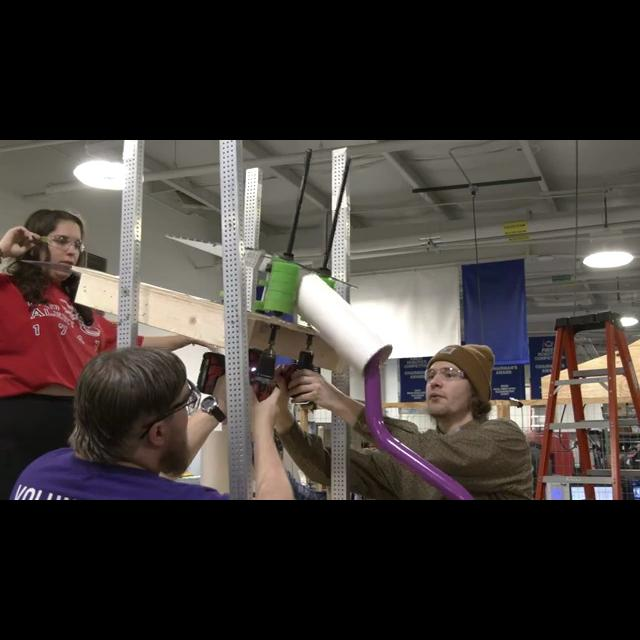CORAL: (298, 274, 392, 372)
